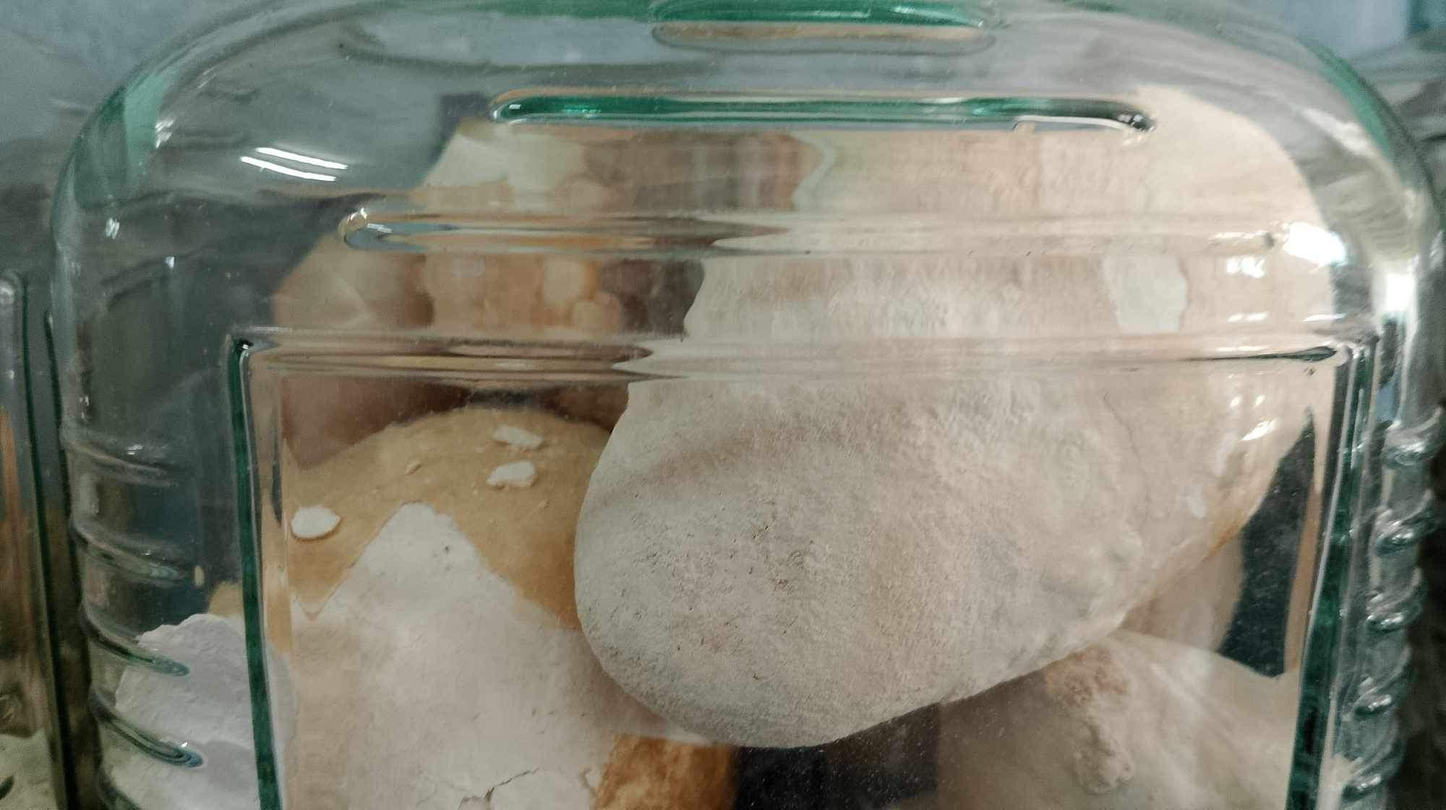General: (38, 3, 1437, 806)
